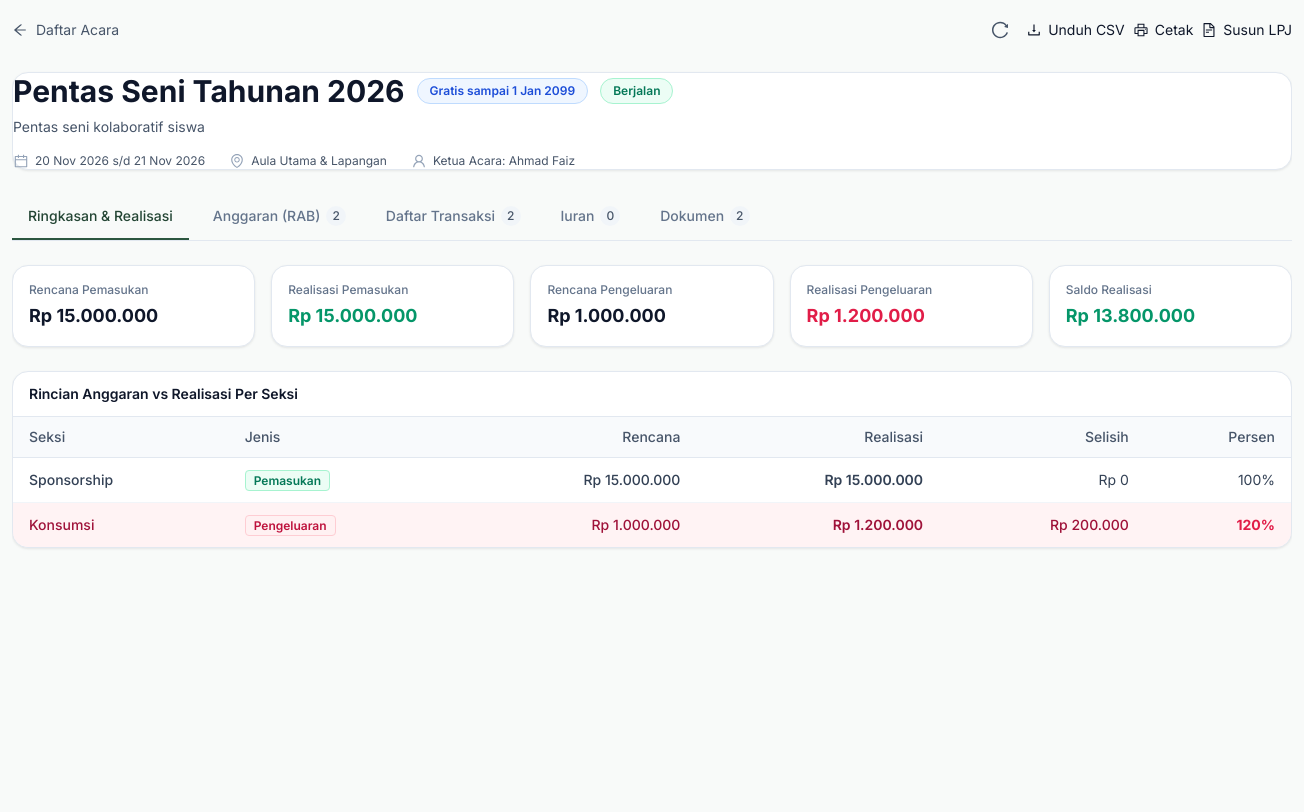
Test: PANITIA-1.7: ProgramDetail Page › PANITIA-3.4: Tab Dokumen › tombol unggah dan hapus tersembunyi untuk anggota biasa
Expected: the heading "Pentas Seni Tahunan 2026" is shown, [13, 73, 405, 109]
What coordinates should you click on to do the following:
click the button "Dokumen 2"
I would click on:
 (705, 217)
Its box is [644, 194, 766, 240].
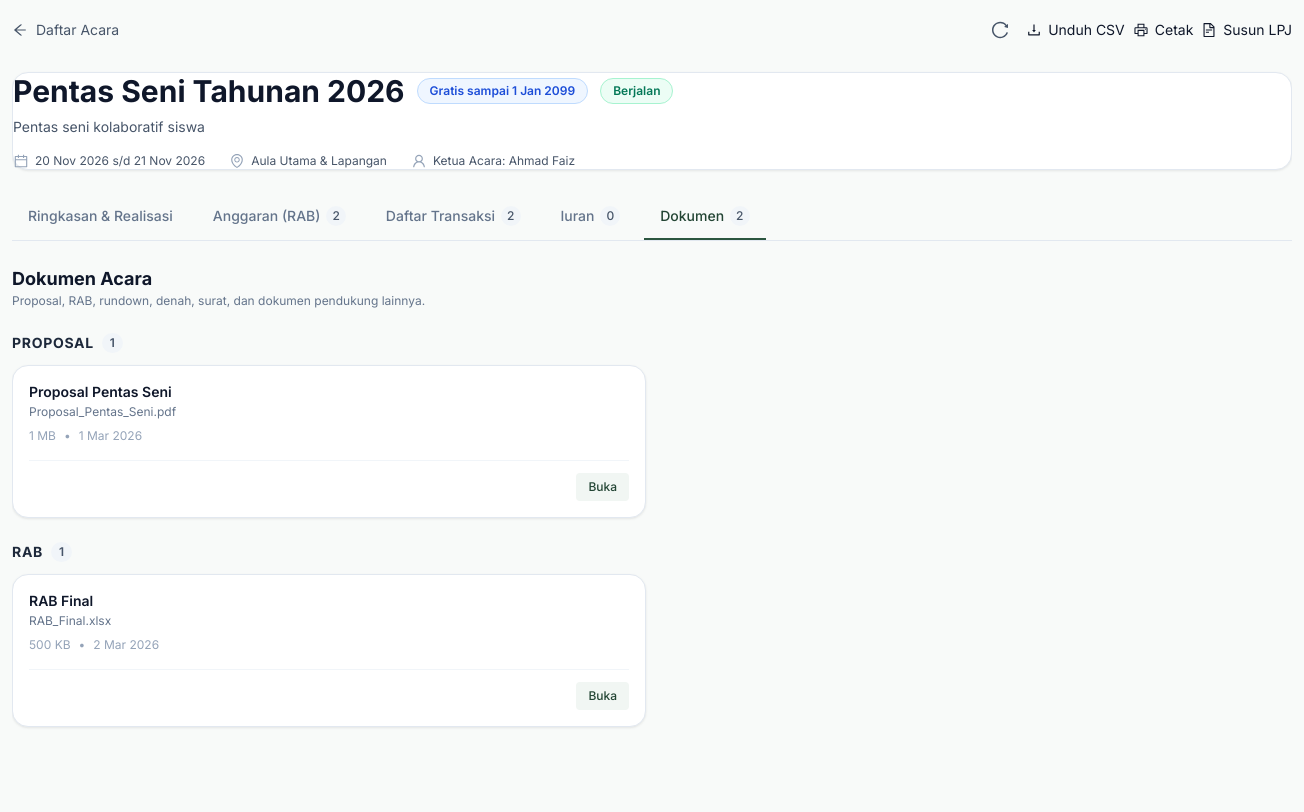
Expected: the heading "Proposal Pentas Seni" is shown, [29, 383, 172, 400]
